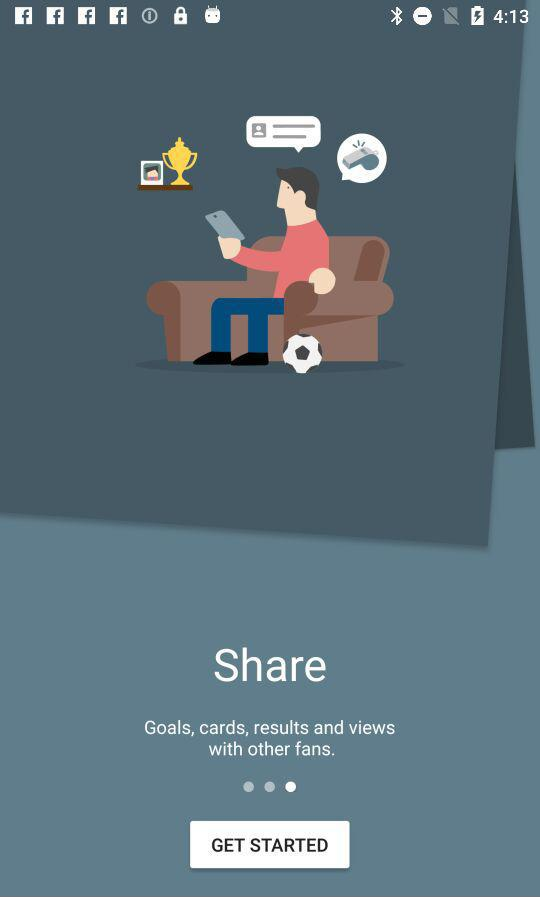Image: (136, 116, 407, 377)
PageIndicator: (242, 779, 298, 794)
Text: (145, 719, 396, 757), (214, 646, 327, 683)
TextButton: (190, 820, 351, 869)
UpperTaskBar: (1, 1, 540, 33)
